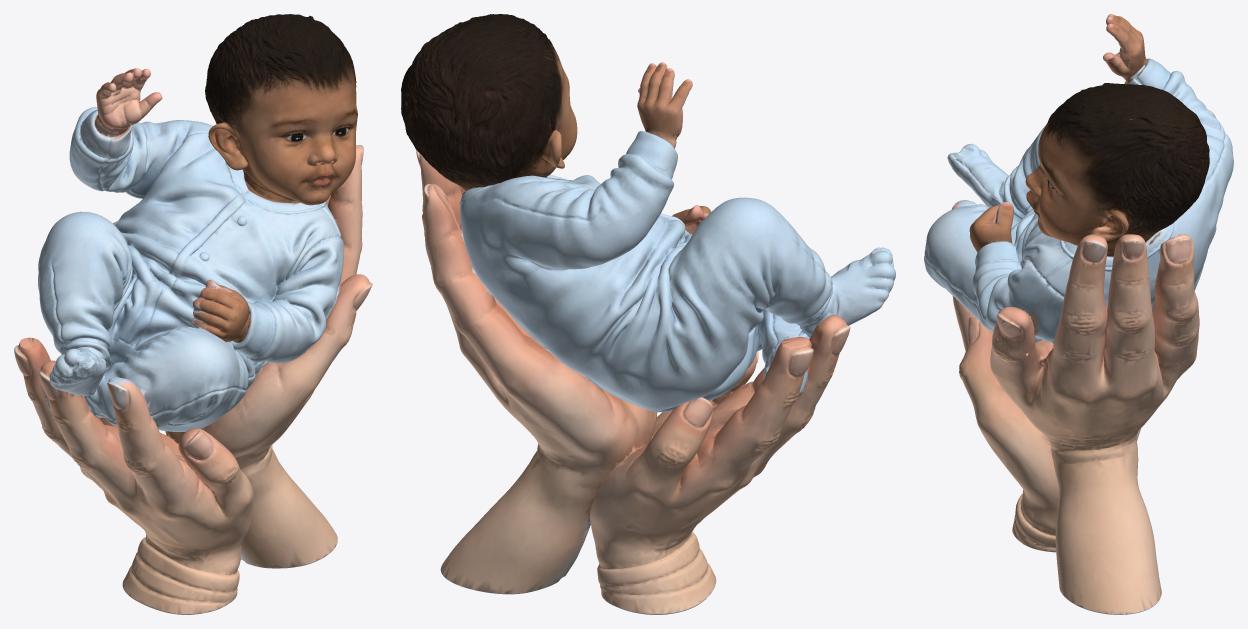
The model's file is tiny_wonder.glb.
3 renders of one model, left to right at view 1: azimuth 30°, elevation 25°; view 2: azimuth 150°, elevation 25°; view 3: azimuth 270°, elevation 25°, orthographic. The views are drawn at different scales.
Bounding box in the file's own units: 1.43 × 1.9 × 1.06.
1 material, 1 textured.
